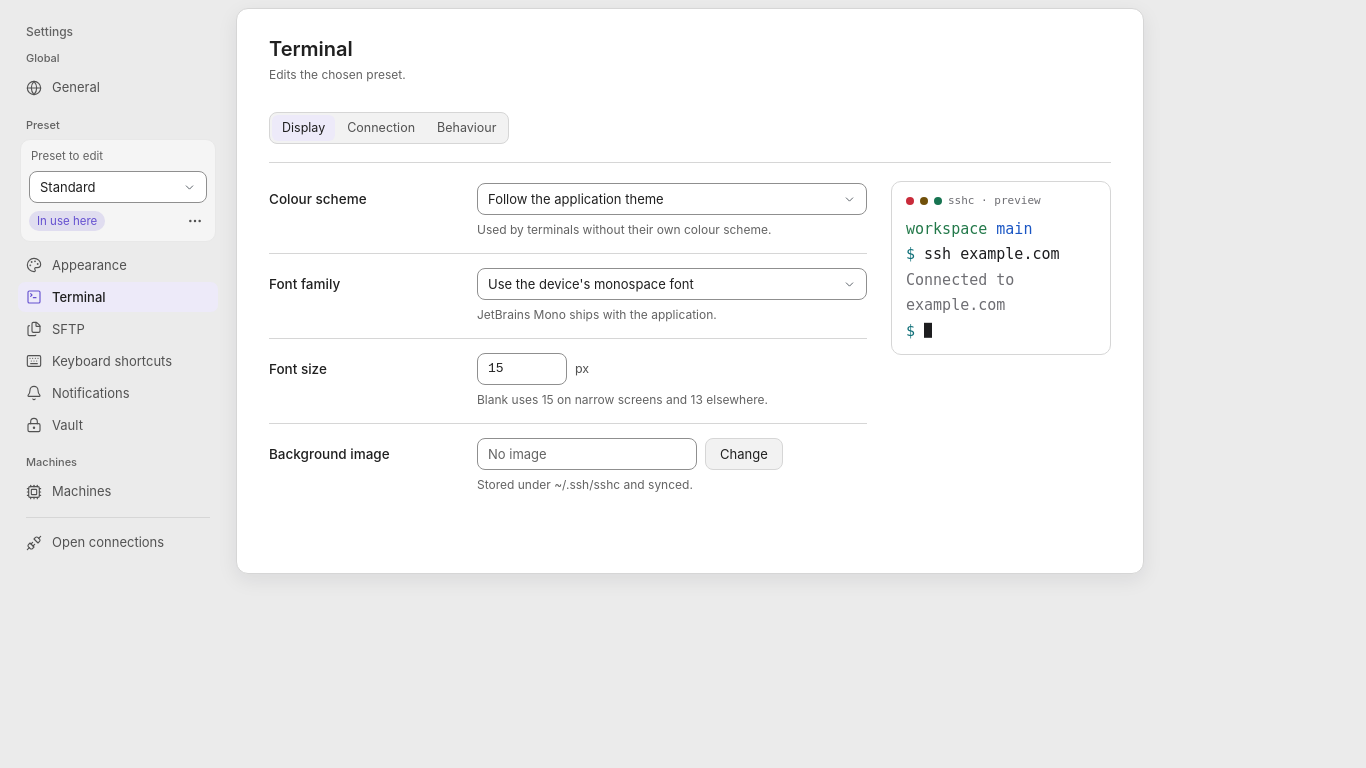
Scenario: SettingsPanel › makes a new preset from the one open and names it
Click the button named "Actions for Standard" at [195, 221], box [183,209,207,233]
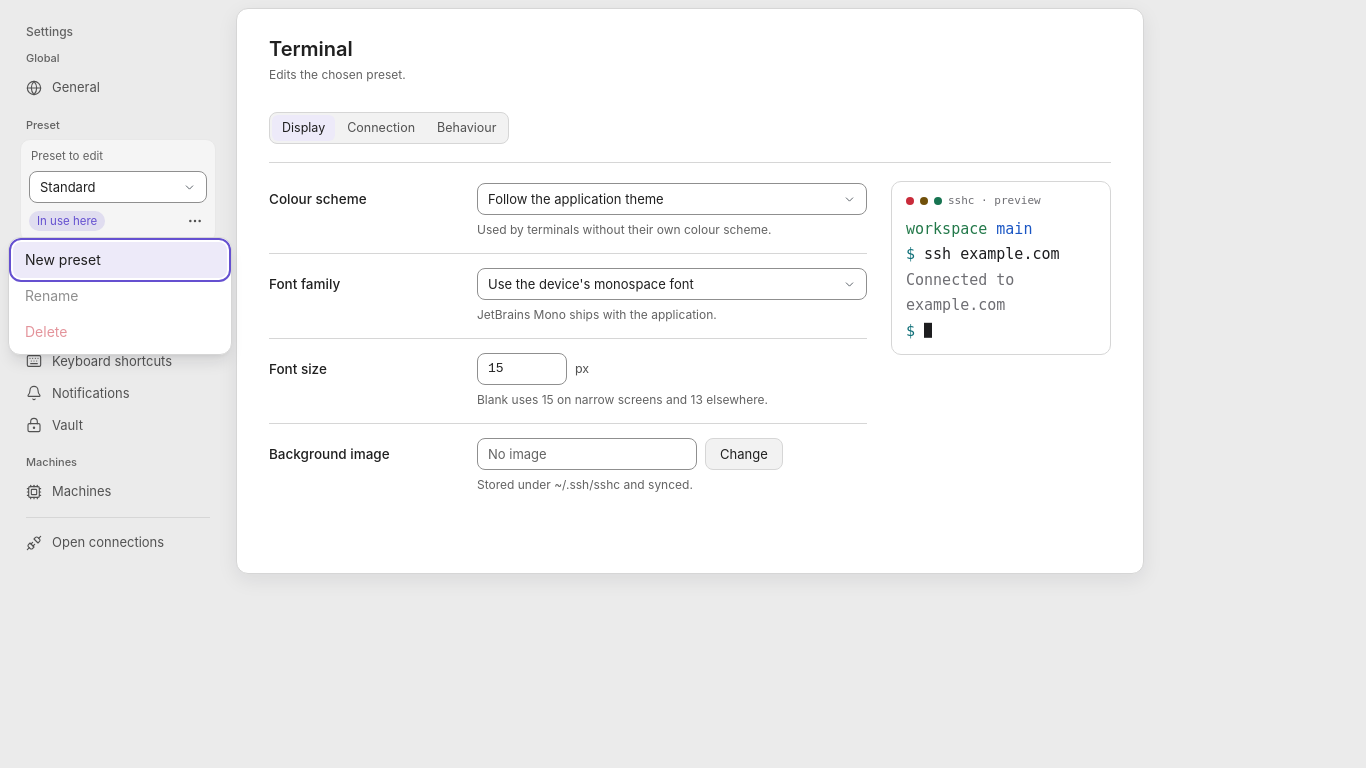
Click the menu item "New preset" at [120, 260], box [13,242,227,278]
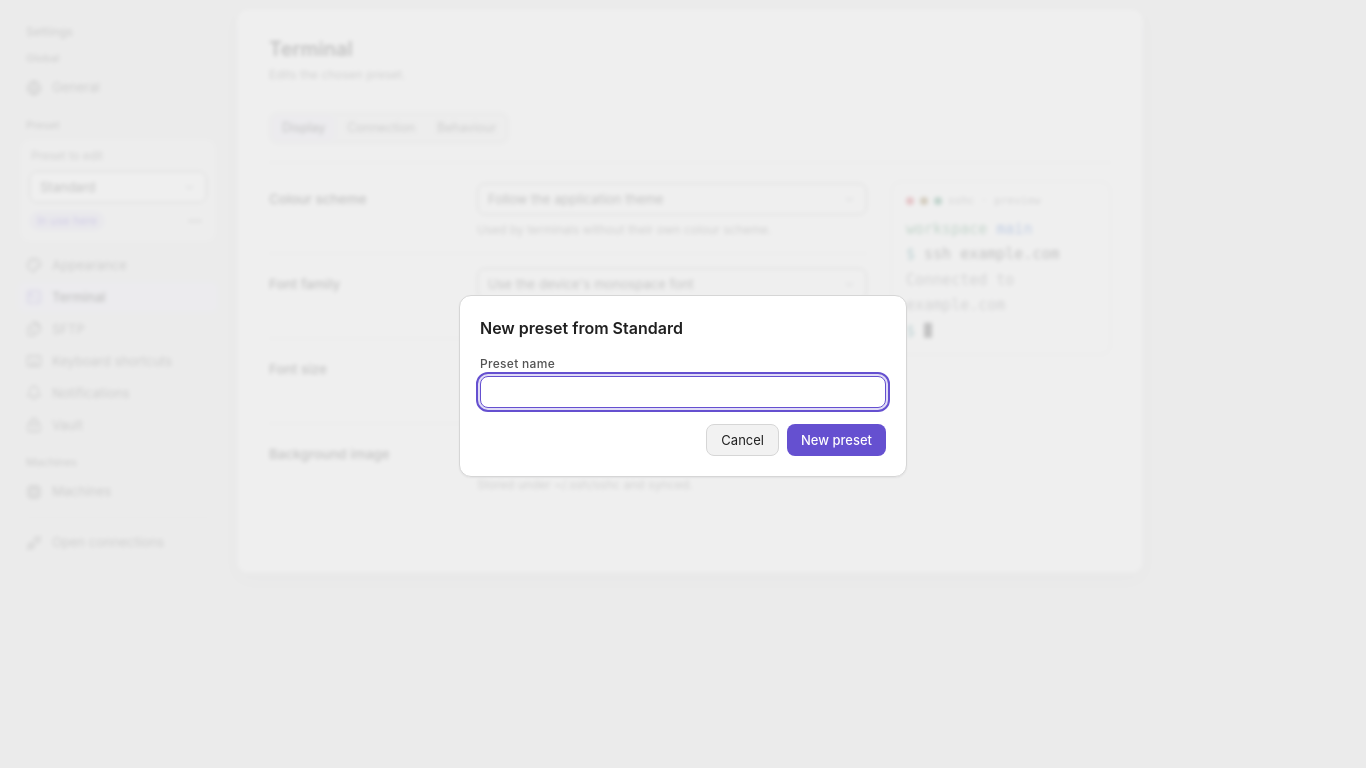
Type "Phone" into the field labelled "Preset name" at [683, 392], box [480,376,886,408]
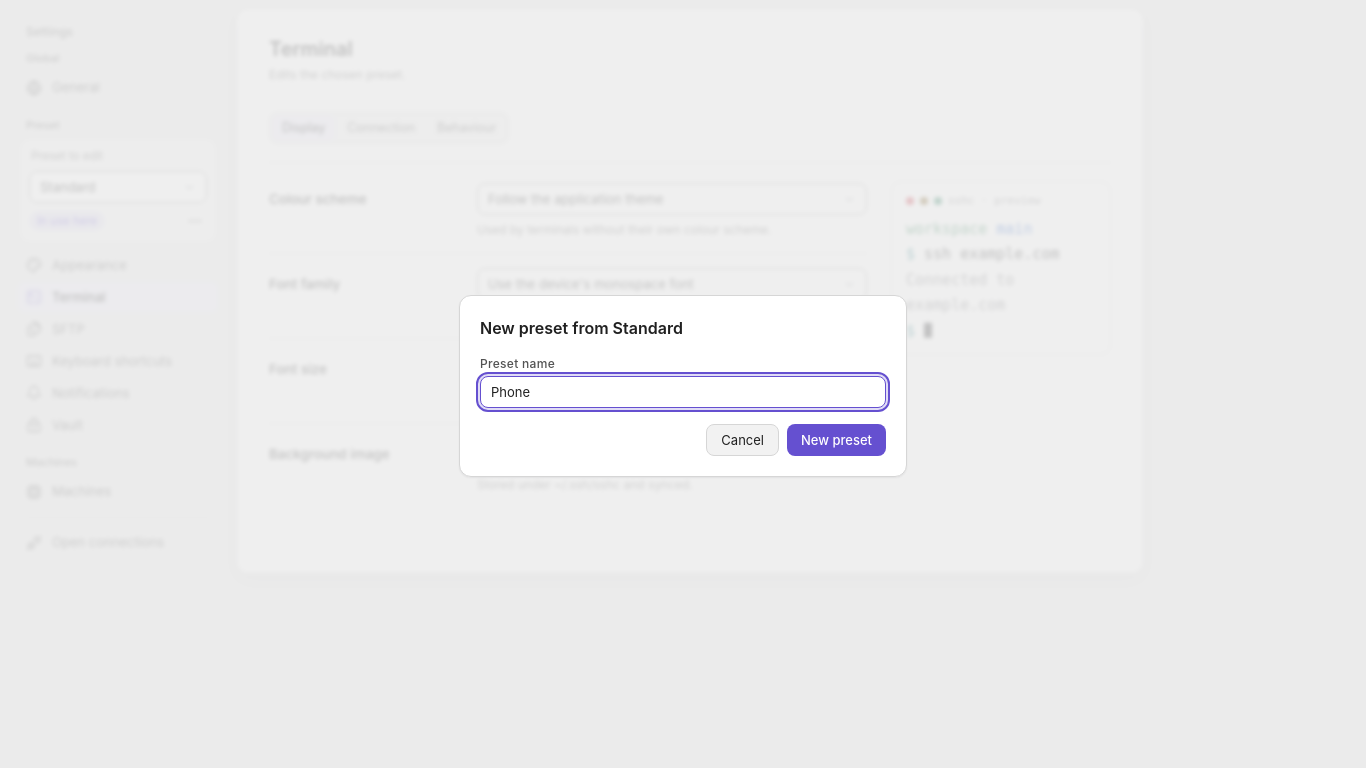
Click the button "New preset" at [836, 440], box [787,424,886,456]
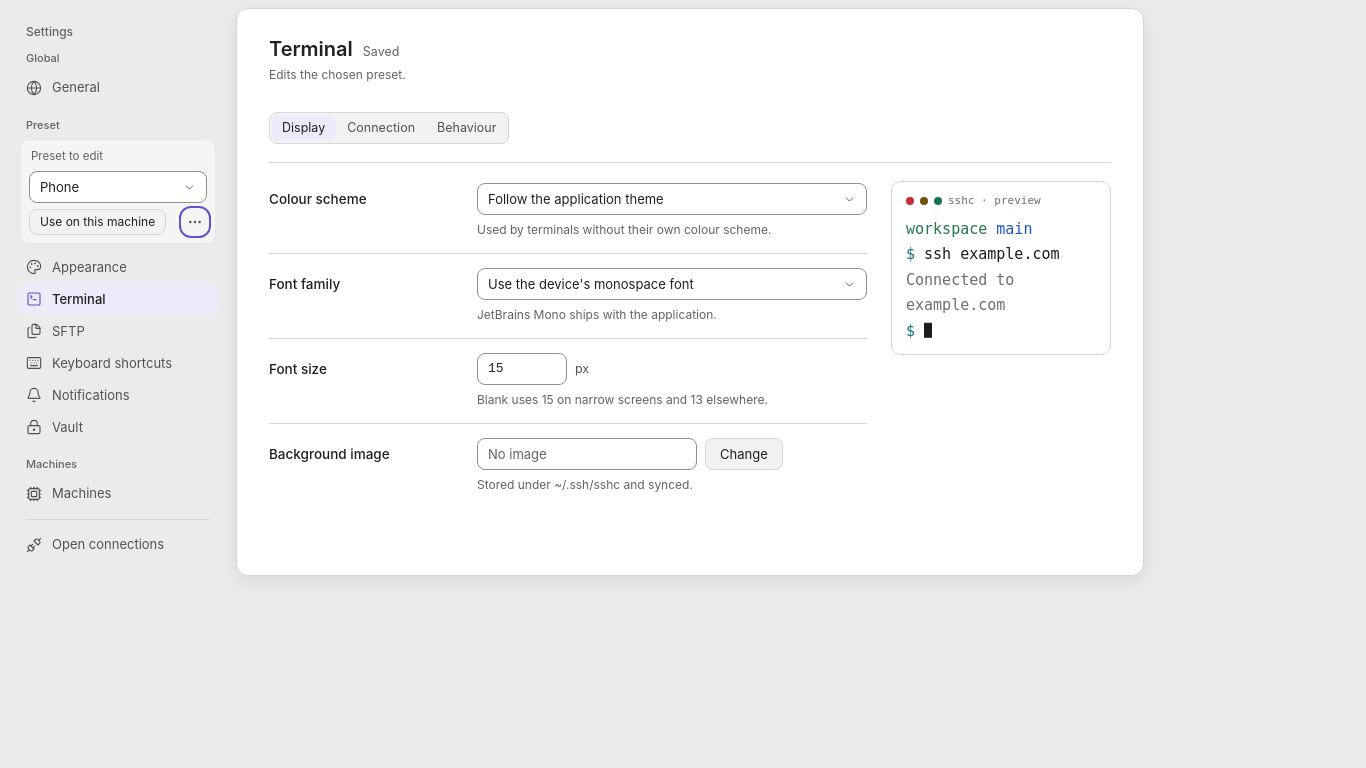
Expected: the dropdown named "Preset to edit" shows "Phone", [29,171,207,203]
